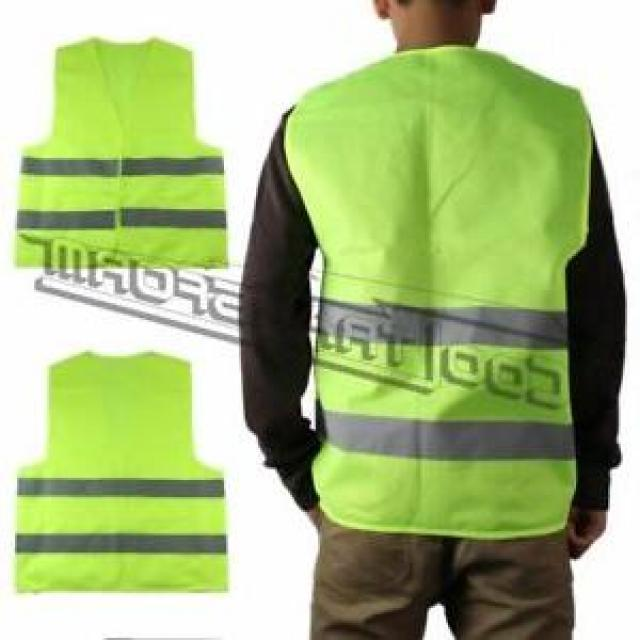reflective_jacket: (264, 33, 614, 559), (1, 27, 243, 294), (2, 343, 247, 605)
